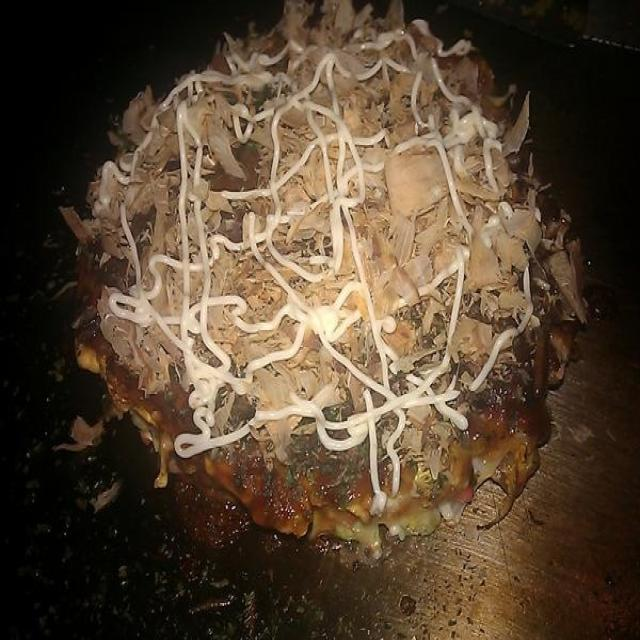蛋糕甜品: (75, 8, 594, 552)
